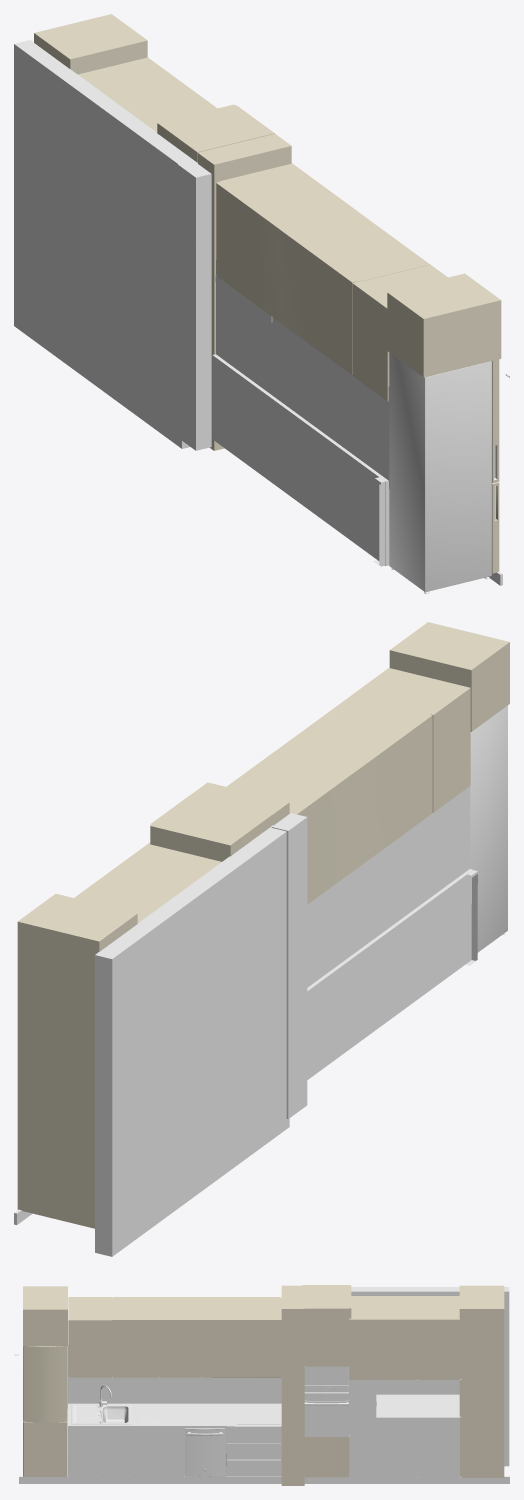
Rendered from chufangzuhe.glb.
The picture shows the model from 3 angles, top to bottom: view 1: azimuth 30°, elevation 25°; view 2: azimuth 150°, elevation 25°; view 3: azimuth 270°, elevation 25°; orthographic projection. The views are drawn at different scales.
Parts seen in each view (by area): view 1: parede 3, Cube.2, ChamferBox001, Cube, Cube.21, parede 2, Cube.4, Cube.1, Cube.5, Cube.17, Cube.3, Cube.16 (+2 smaller); view 2: parede 3, Cube.17, Cube.2, Cube, Cube.21, ChamferBox001, Cube.4, Cube.1, parede 2, Cube.5, Cube.16, Cube.3; view 3: Cube.2, Cube, Cube.5, Cube.17, Cube.6, Cube.21, Cube.3, Cube.16, Cube.1, Line001, Cube.4, Line002 (+12 smaller).
Part boxes in pixels (left/top/right/bottom): parede 3: left=14, top=40, right=197, bottom=448; Cube.2: left=216, top=163, right=429, bottom=374; ChamferBox001: left=389, top=353, right=491, bottom=592; Cube: left=212, top=354, right=387, bottom=566; Cube.21: left=216, top=259, right=389, bottom=488; parede 2: left=178, top=160, right=211, bottom=450; Cube.4: left=387, top=273, right=501, bottom=377; Cube.1: left=352, top=264, right=447, bottom=401; Cube.5: left=78, top=57, right=217, bottom=132; Cube.17: left=34, top=14, right=147, bottom=74; Cube.3: left=197, top=134, right=291, bottom=450; Cube.16: left=157, top=104, right=274, bottom=162; parede 3: left=95, top=825, right=289, bottom=1256; Cube.17: left=17, top=893, right=137, bottom=1228; Cube.2: left=226, top=694, right=432, bottom=904; Cube: left=307, top=869, right=477, bottom=1079; Cube.21: left=307, top=786, right=470, bottom=987; ChamferBox001: left=470, top=705, right=507, bottom=952; Cube.4: left=389, top=622, right=509, bottom=731; Cube.1: left=352, top=668, right=470, bottom=812; parede 2: left=271, top=813, right=307, bottom=1118; Cube.5: left=74, top=842, right=221, bottom=923; Cube.16: left=150, top=795, right=272, bottom=861; Cube.3: left=191, top=782, right=289, bottom=825; Cube.2: left=111, top=1297, right=282, bottom=1377; Cube: left=68, top=1403, right=281, bottom=1476; Cube.5: left=349, top=1296, right=459, bottom=1379; Cube.17: left=459, top=1285, right=504, bottom=1477; Cube.6: left=349, top=1379, right=459, bottom=1477; Cube.21: left=67, top=1345, right=281, bottom=1408; Cube.3: left=281, top=1285, right=304, bottom=1485; Cube.16: left=302, top=1285, right=351, bottom=1366; Cube.1: left=68, top=1297, right=111, bottom=1377; Line001: left=23, top=1346, right=67, bottom=1422; Cube.4: left=23, top=1286, right=67, bottom=1345; Line002: left=23, top=1420, right=67, bottom=1476.
Size of the model in its own units: 0.2331 by 0.6326 by 1.57.
